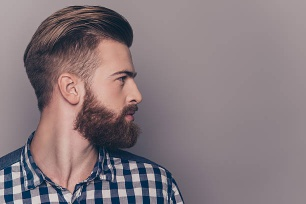male: (39, 15, 146, 149)
